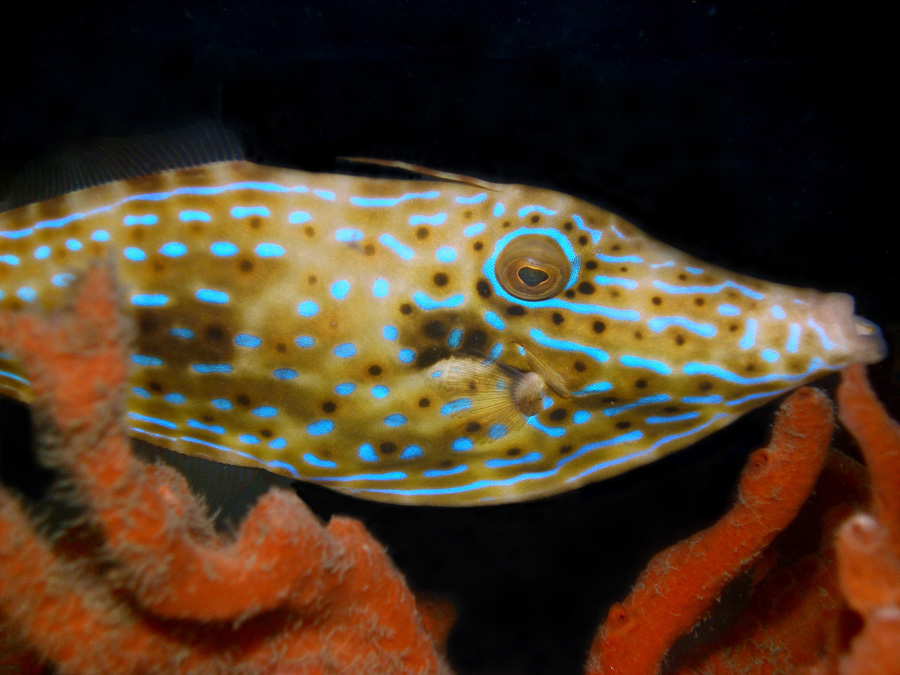Aluterus_scriptus: (1, 126, 892, 515)
